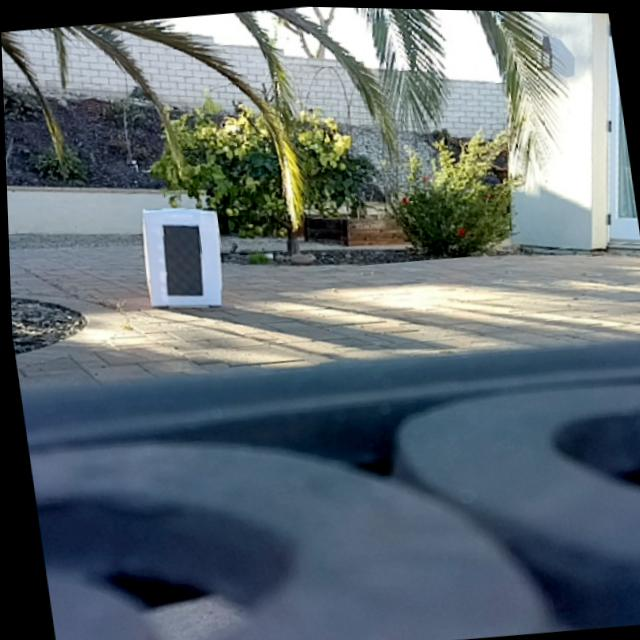led: (154, 217, 207, 298)
